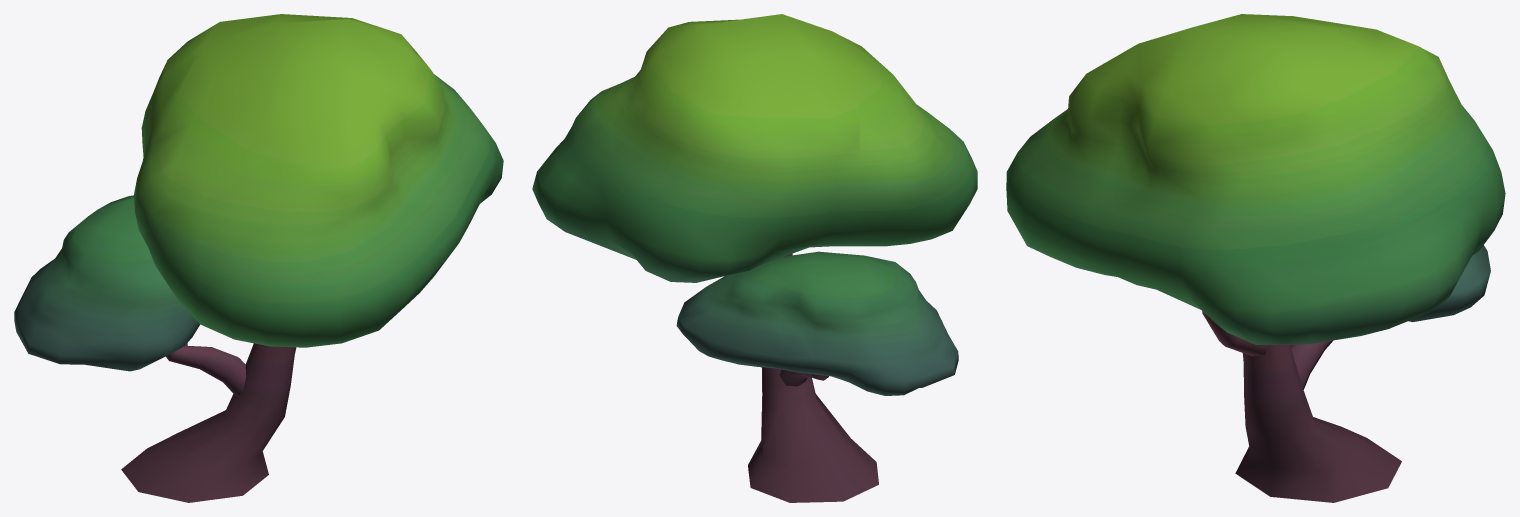
The model's file is Tree_8.fbx.
3 views of the same model, side by side, from view 1: azimuth 30°, elevation 25°; view 2: azimuth 150°, elevation 25°; view 3: azimuth 270°, elevation 25° (orthographic). The views are drawn at different scales.
Parts seen in each view (by area): view 1: Tree_8; view 2: Tree_8; view 3: Tree_8.
Part boxes in pixels (x1,y1,x2,y2): Tree_8: [14, 14, 503, 502]; Tree_8: [532, 14, 977, 502]; Tree_8: [1006, 14, 1505, 502].
Bounding box in the file's own units: 509 × 480 × 438.
